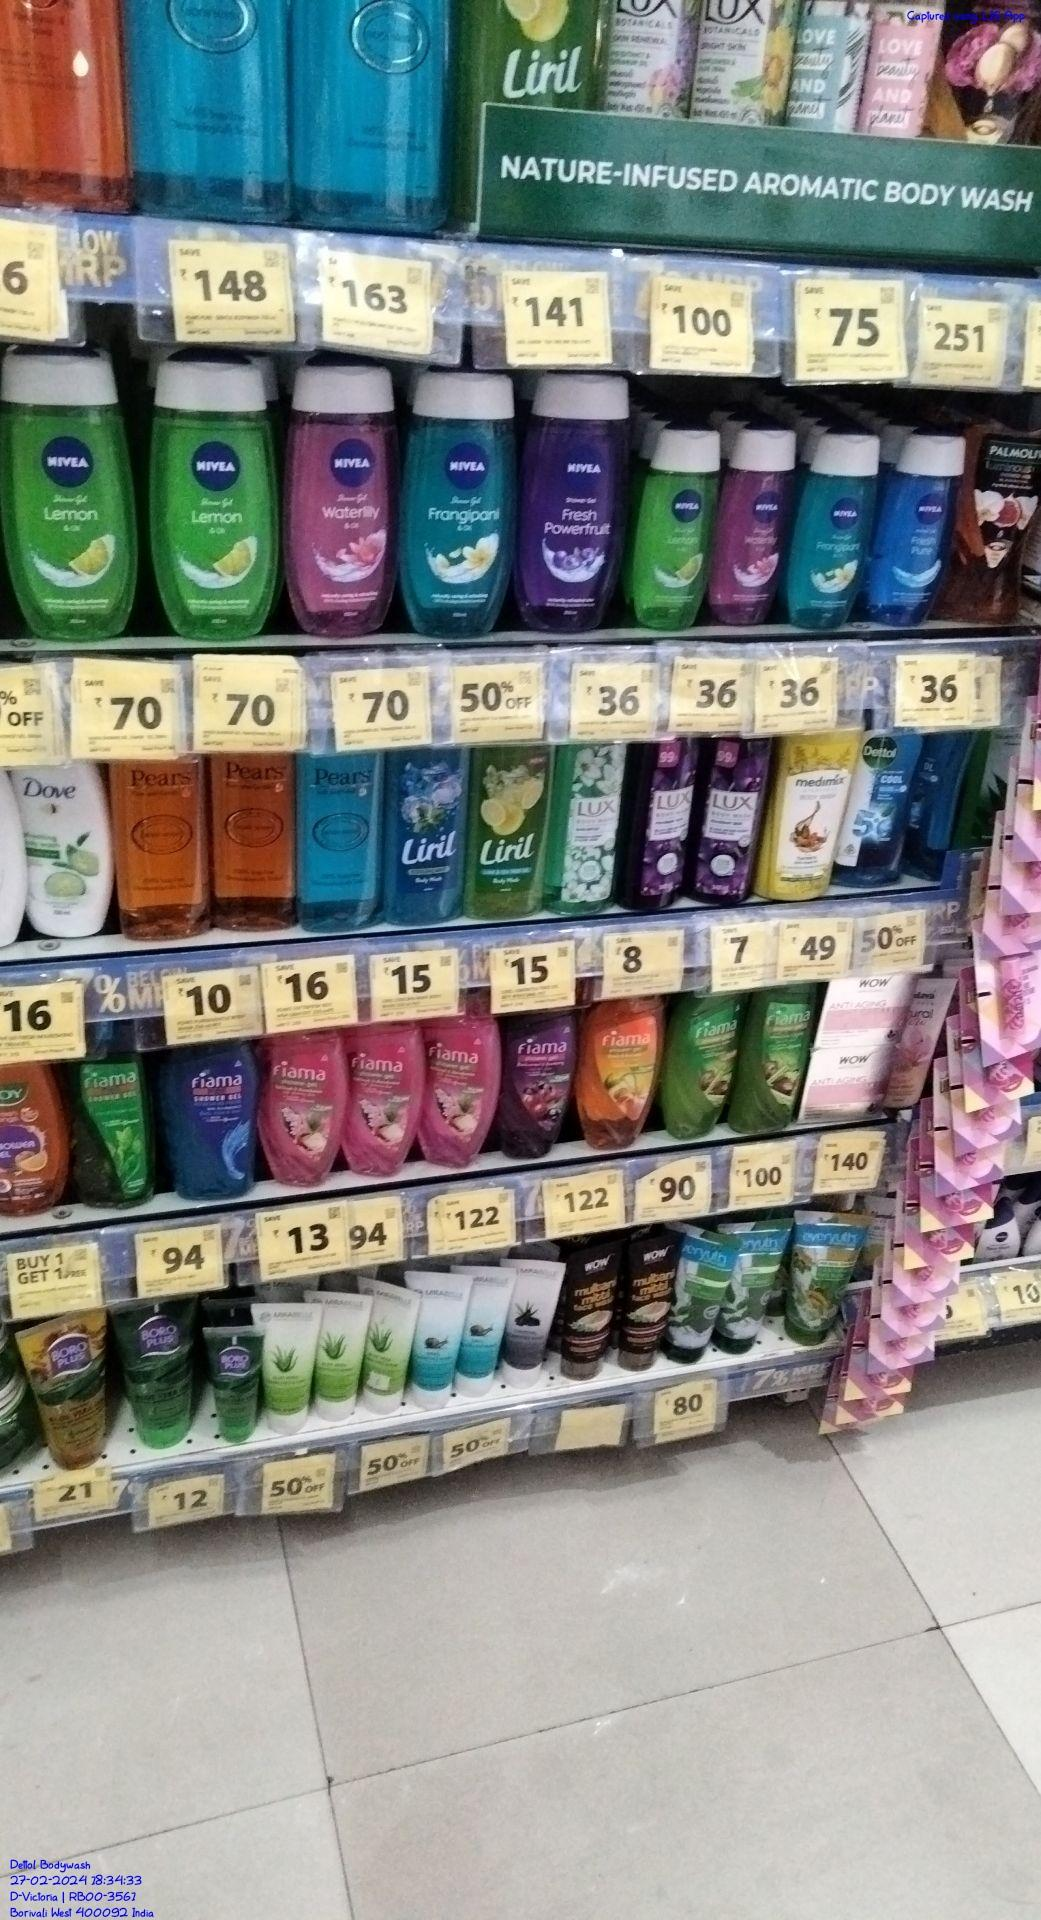Dettol_Bodywash_Cool: (853, 729, 919, 901)
Dove_Refreshing_Body_Wash_250ML: (17, 760, 105, 936)
Fiama_Shower_Gel_Lemongrass_and_Jojoba_250ML: (745, 989, 810, 1134), (678, 991, 733, 1139)
Fiama_Shower_Gel_Patchouli_and_Macadamia_250ML: (423, 1001, 497, 1173), (349, 1020, 417, 1184), (269, 1029, 337, 1191)
Fiama_Shower_Gel_Peach_and_Avocado_250ML: (585, 993, 663, 1154)
Joy_Shower_Gel_Mandarin_and_Lemongrass_250ML: (0, 1061, 67, 1225)
Liril_Cooling_Mint_Body_Wash_250ML: (386, 751, 467, 928)
Liril_Lime_and_Tea_Tree_Oil_Body_Wash_250ML: (474, 750, 550, 923)
Lux_Black_Orchid_Scent_and_Juniper_Oil_Body_Wash_245ML: (704, 738, 767, 909), (635, 742, 695, 910)
Lux_Body_Wash_Skin_Detox_Freesia_Scent_and_Alove_Vera_245ML: (558, 746, 622, 918)
Nivea_Shower_Gel_Frangipani_and_Oil_250ML: (405, 358, 519, 641), (794, 427, 868, 633)
Nivea_Shower_Gel_Fresh_Powerfruit_250ML: (527, 367, 627, 634)
Nivea_Shower_Gel_Lemon_and_Oil_250ML: (3, 341, 136, 640), (151, 342, 273, 641), (641, 426, 709, 631)
Nivea_Shower_Gel_Waterlily_and_Oil_250ML: (285, 355, 400, 643), (720, 420, 785, 627)
Pears_Pure_Glycerin_and_Mint_Extracts_Body_Wash_250ML: (296, 752, 381, 939)
